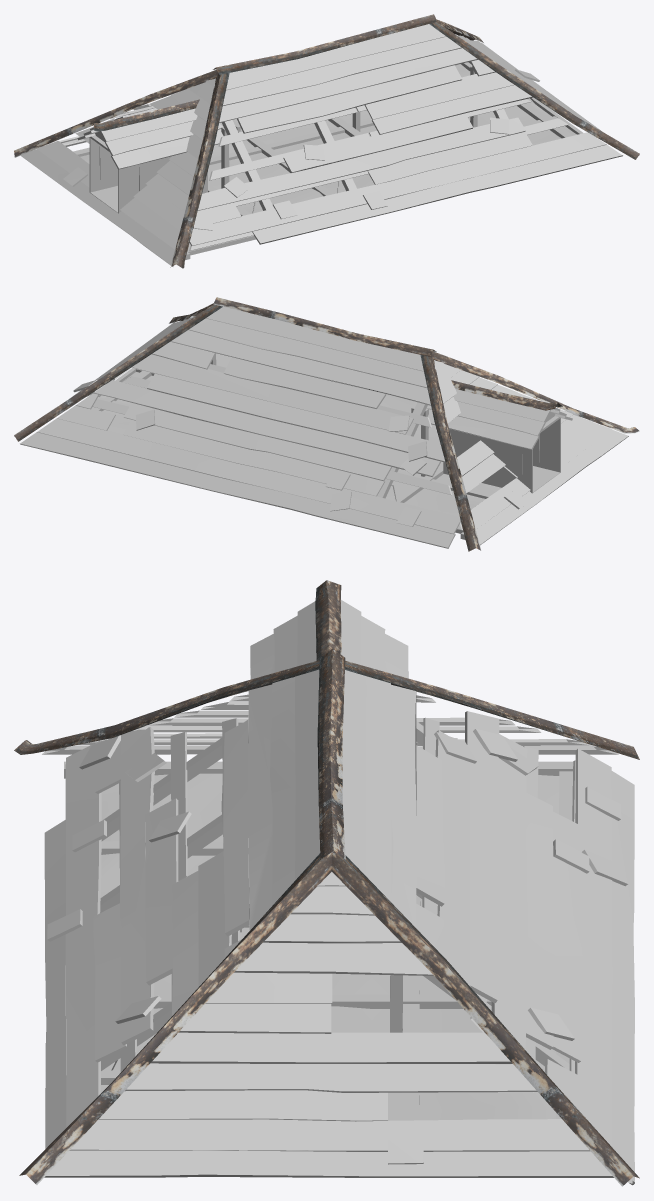
File: Roof_16.FBX
The picture shows the model from 3 angles, top to bottom: view 1: azimuth 30°, elevation 25°; view 2: azimuth 150°, elevation 25°; view 3: azimuth 270°, elevation 25°; orthographic projection. The views are drawn at different scales.
Parts seen in each view (by area): view 1: Roof_16, Attic_05, Peak_04, Wood_Roof_16_2, Peak_04_2; view 2: Roof_16, Peak_04, Attic_05, Wood_Roof_16_2, Peak_04_2; view 3: Roof_16, Peak_04, Attic_05, Peak_04_2.
Boxes of the visible parts, x1,y1,x2,y2 form: Roof_16: [20, 24, 622, 266]; Attic_05: [64, 61, 583, 260]; Peak_04: [14, 14, 639, 268]; Wood_Roof_16_2: [89, 131, 207, 213]; Peak_04_2: [89, 99, 199, 131]; Roof_16: [20, 306, 628, 548]; Peak_04: [14, 297, 639, 551]; Attic_05: [91, 353, 501, 539]; Wood_Roof_16_2: [443, 412, 560, 493]; Peak_04_2: [451, 380, 562, 410]; Roof_16: [42, 600, 634, 1185]; Peak_04: [14, 648, 639, 1186]; Attic_05: [64, 717, 575, 1120]; Peak_04_2: [315, 580, 341, 660].
Size of the model in its own units: 1290 by 783 by 312.
